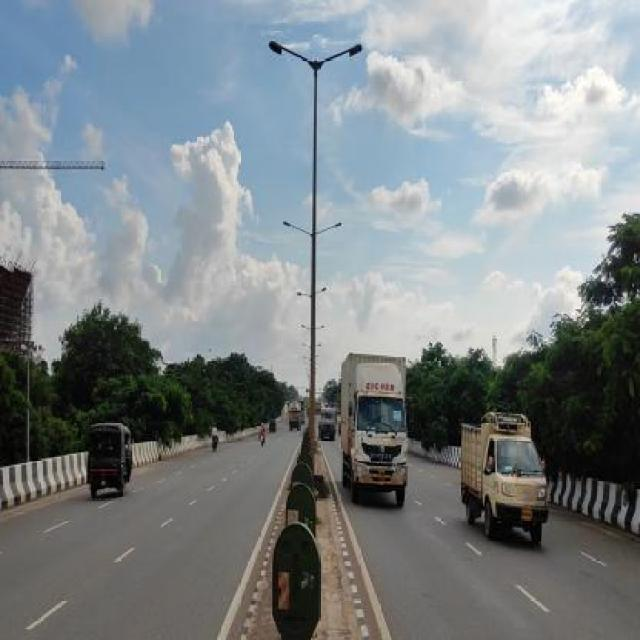rickshaw: (82, 420, 135, 496)
truck: (457, 408, 552, 542), (336, 352, 412, 508), (317, 400, 338, 446)
